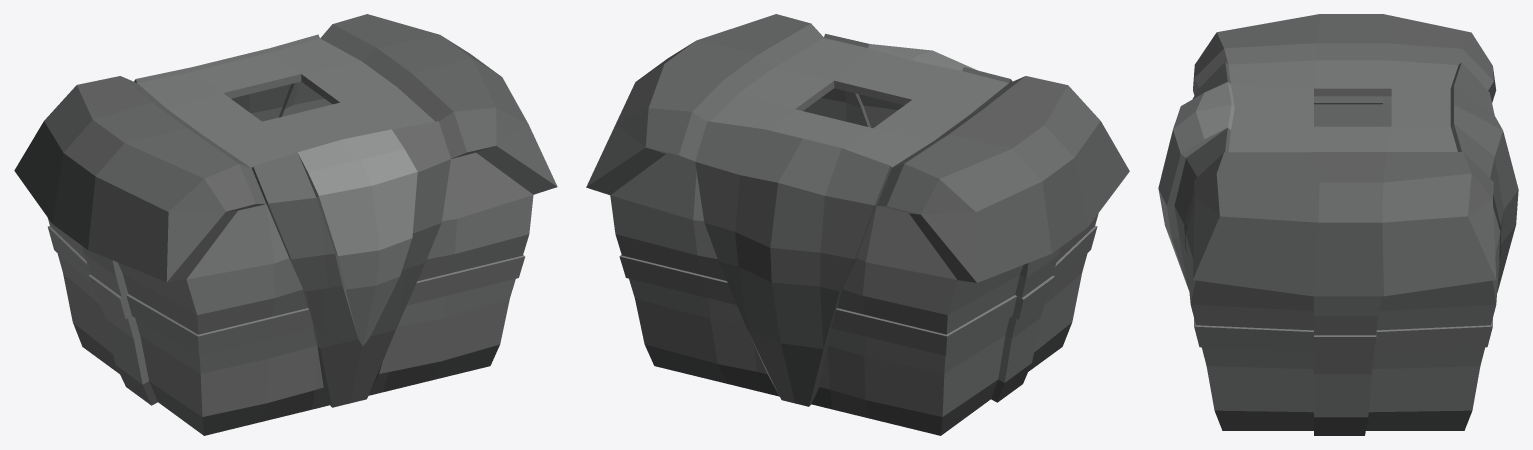
The model's file is Character IronTop.fbx.
3 renders of one model, left to right at view 1: azimuth 30°, elevation 25°; view 2: azimuth 150°, elevation 25°; view 3: azimuth 270°, elevation 25°, orthographic.
Parts seen in each view (by area): view 1: IronTop; view 2: IronTop; view 3: IronTop.
Part boxes in pixels (x1,y1,x2,y2): IronTop: (14, 14, 557, 435); IronTop: (586, 14, 1129, 435); IronTop: (1158, 14, 1518, 435).
Bounding box in the file's own units: 179 × 107 × 131.
